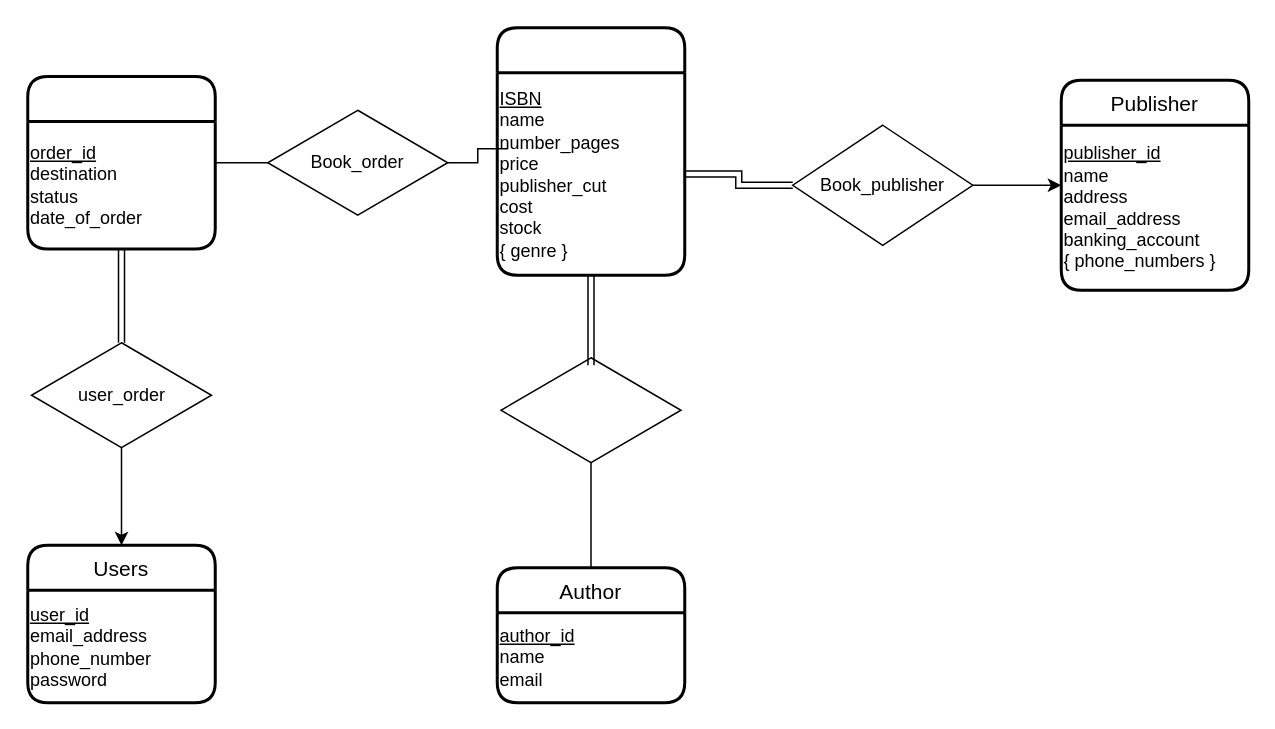
Image size: 1275x729. Some labels were removed from this diagram. The box of each missing label's shape, as (x1, y1, x2, y2) in pixels:
Book: (495, 26, 686, 276)
Book_author: (500, 356, 681, 463)
Orders: (26, 74, 216, 250)
